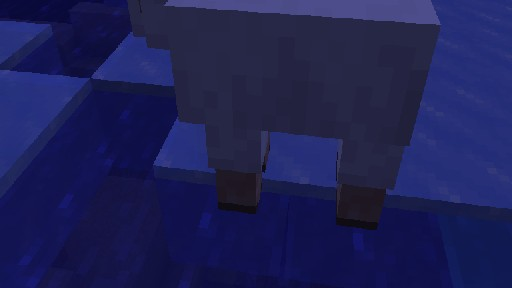sheep: (118, 0, 441, 230)
